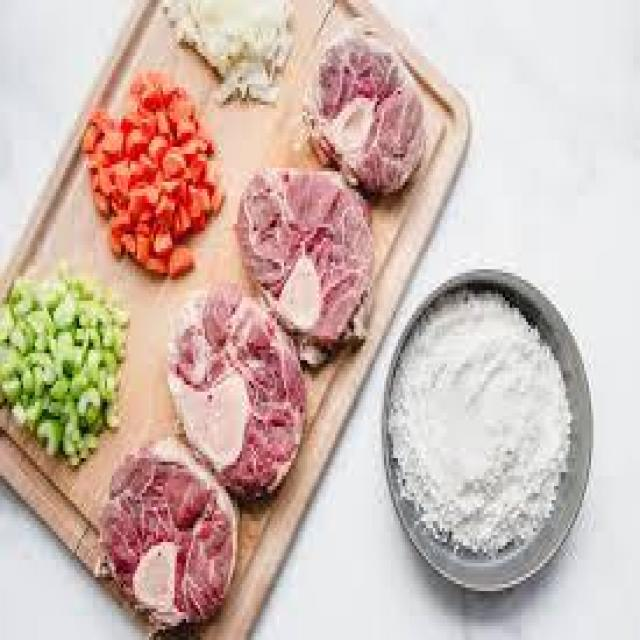Beef: (194, 290, 306, 495)
